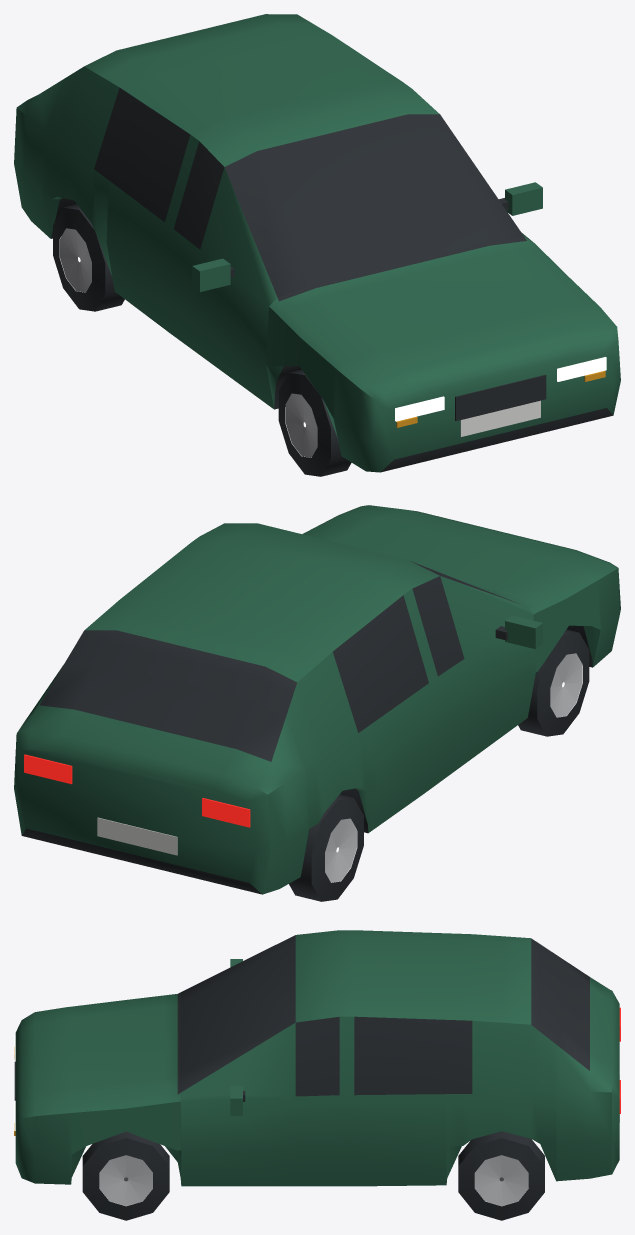
File: hatchback_green_lod1.glb
3 views of the same model, one above another, from view 1: azimuth 30°, elevation 25°; view 2: azimuth 150°, elevation 25°; view 3: azimuth 270°, elevation 25° (orthographic). The views are drawn at different scales.
Parts seen in each view (by area): view 1: hatchback_green_lod1; view 2: hatchback_green_lod1; view 3: hatchback_green_lod1.
Boxes of the visible parts, bbox=[...] form: hatchback_green_lod1: bbox=[14, 14, 620, 476]; hatchback_green_lod1: bbox=[14, 505, 620, 901]; hatchback_green_lod1: bbox=[14, 930, 620, 1220].
Size of the model in its own units: 0.112 by 0.0755 by 0.2061.
